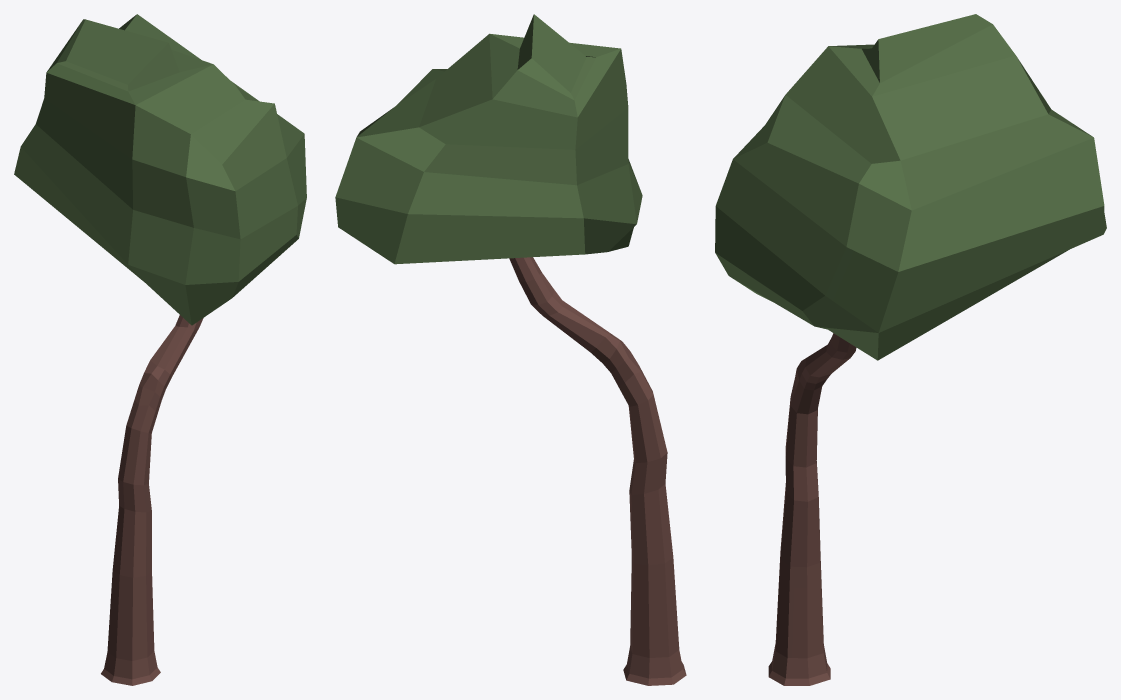
The model's file is Orange_3.glb.
3 views of the same model, side by side, from view 1: azimuth 30°, elevation 25°; view 2: azimuth 150°, elevation 25°; view 3: azimuth 270°, elevation 25° (orthographic). The views are drawn at different scales.
Parts seen in each view (by area): view 1: Orange_3; view 2: Orange_3; view 3: Orange_3.
Part boxes in pixels (left/top/right/bottom): Orange_3: left=14, top=14, right=306, bottom=685; Orange_3: left=335, top=14, right=686, bottom=685; Orange_3: left=715, top=14, right=1106, bottom=685.
Bounding box in the file's own units: 0.9217 × 2.12 × 1.12.
